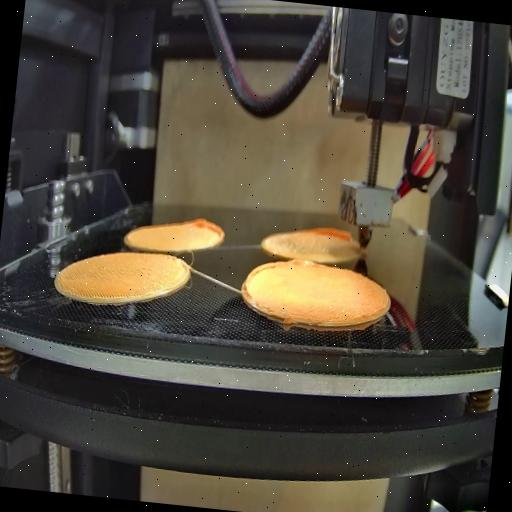over_extrusion: (243, 258, 276, 300), (192, 216, 229, 250), (309, 224, 352, 245), (289, 256, 325, 274)
